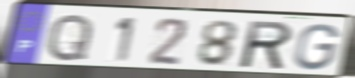1: (114, 15, 136, 64)
2: (145, 17, 189, 67)
8: (195, 19, 241, 67)
G: (292, 22, 341, 72)
Q: (44, 12, 95, 64)
R: (239, 19, 294, 71)
